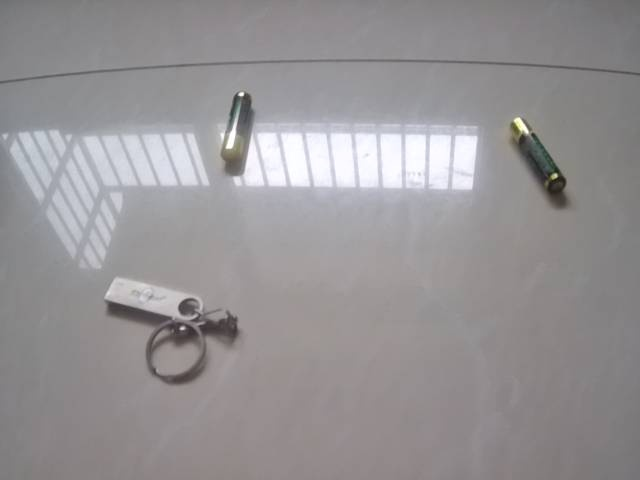U-disk: (104, 265, 244, 389)
battery: (501, 112, 578, 208), (214, 88, 265, 171)
